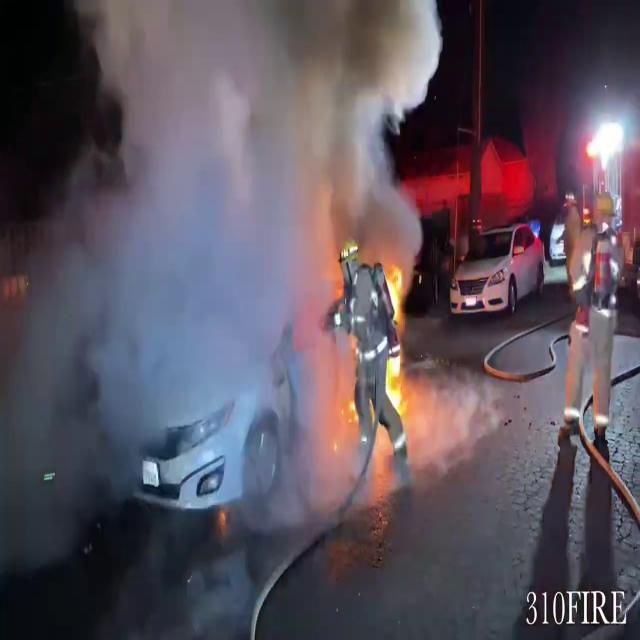Fire: (384, 258, 410, 416), (384, 257, 408, 324)
Smoke: (10, 0, 429, 484)
